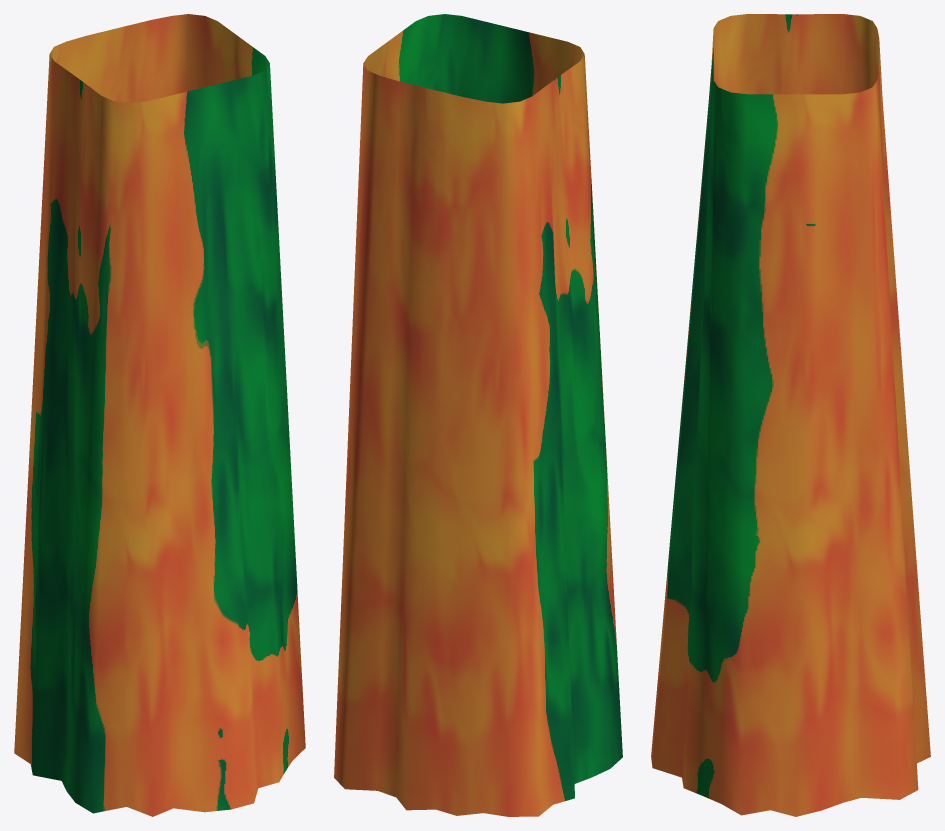
Rendered from p_mesh_trashbot_flowspray_pose0.fbx.
The picture shows the model from 3 angles, left to right: view 1: azimuth 30°, elevation 25°; view 2: azimuth 150°, elevation 25°; view 3: azimuth 270°, elevation 25°; orthographic projection.
Visible parts, largest first — view 1: p_mesh_growlab_trashgooflow_pose0; view 2: p_mesh_growlab_trashgooflow_pose0; view 3: p_mesh_growlab_trashgooflow_pose0.
Boxes of the visible parts, <box> form: p_mesh_growlab_trashgooflow_pose0: <box>14,14,305,816</box>; p_mesh_growlab_trashgooflow_pose0: <box>334,14,622,816</box>; p_mesh_growlab_trashgooflow_pose0: <box>651,14,930,816</box>.
Bounding box in the file's own units: 15.97 × 45.13 × 16.29.
